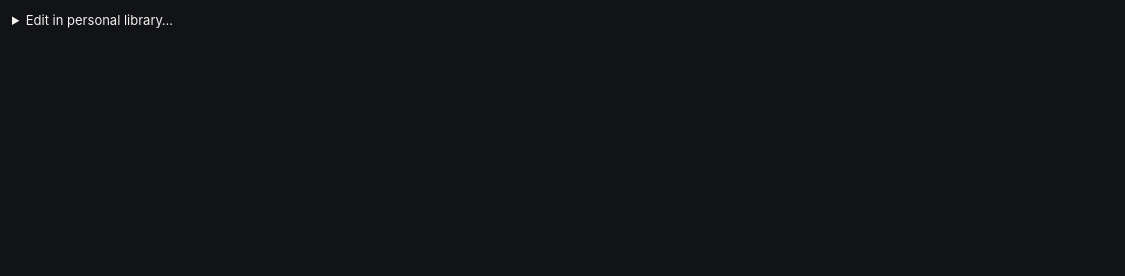
it: ComponentEditor › shows why the backend refused the save
Click the heading "Edit in personal library…".
click(99, 20)  # box left=26, top=12, right=173, bottom=28
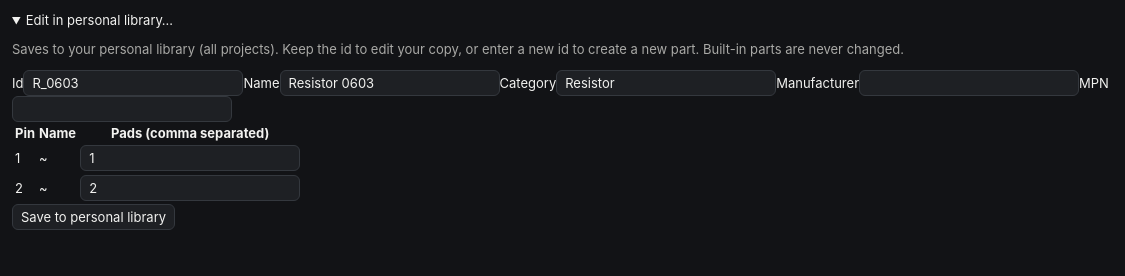
Click the button "Save to personal library".
click(94, 217)  # box left=12, top=204, right=175, bottom=230
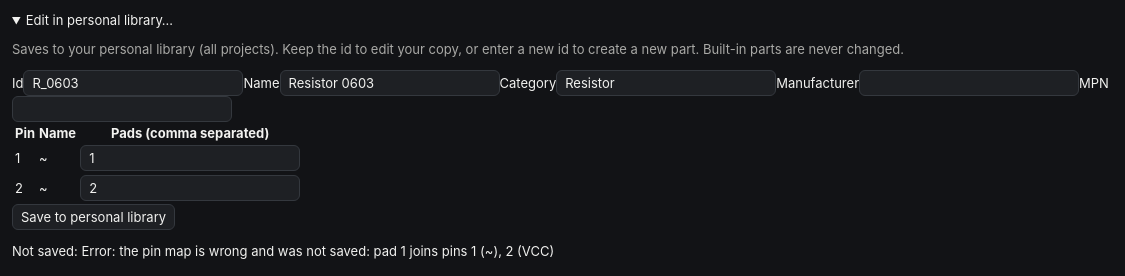
Now the text with test id "component-save-error" shows "pin map is wrong", box left=82, top=243, right=554, bottom=259
